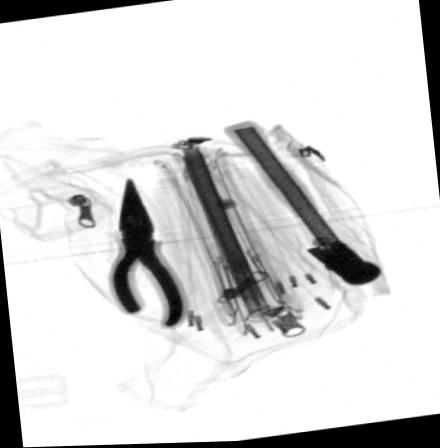Hammer: (222, 120, 382, 287)
Pliers: (105, 178, 190, 330)
